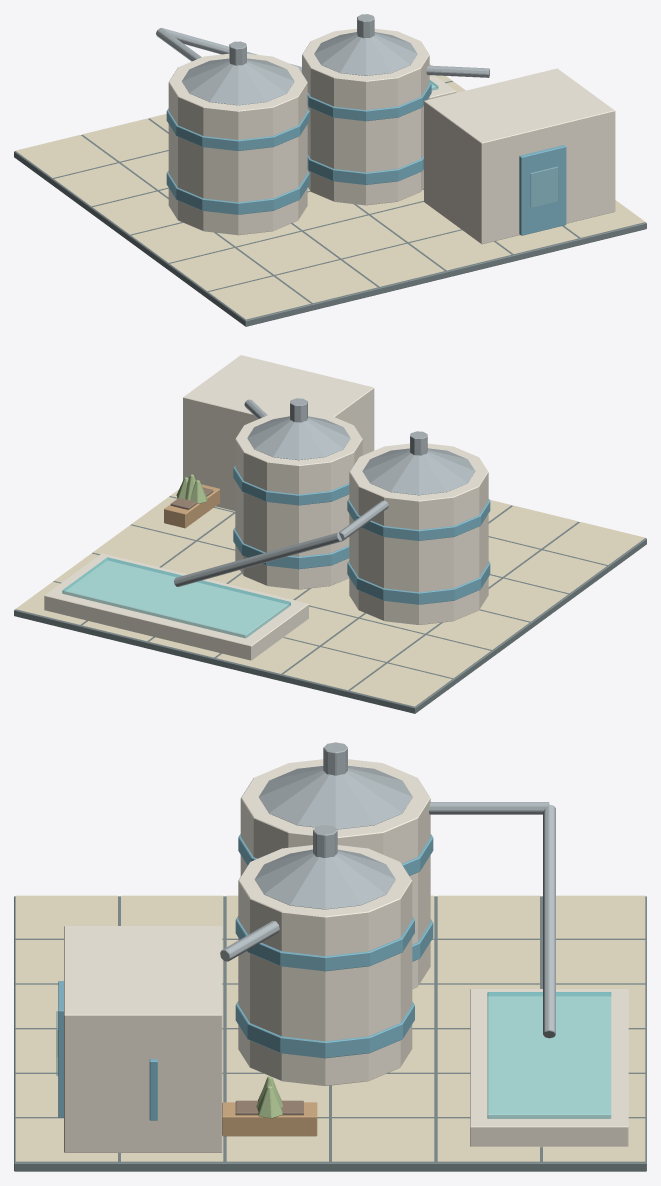
File: b04-aquaworks.glb
3 renders of one model, top to bottom at view 1: azimuth 30°, elevation 25°; view 2: azimuth 150°, elevation 25°; view 3: azimuth 270°, elevation 25°, orthographic. The views are drawn at different scales.
Parts seen in each view (by area): view 1: MM_STR_B04_AQUAWORKS_A_LOD0; view 2: MM_STR_B04_AQUAWORKS_A_LOD0; view 3: MM_STR_B04_AQUAWORKS_A_LOD0.
Part boxes in pixels (x1,y1,x2,y2): MM_STR_B04_AQUAWORKS_A_LOD0: (14,14,646,326); MM_STR_B04_AQUAWORKS_A_LOD0: (14,355,646,713); MM_STR_B04_AQUAWORKS_A_LOD0: (14,742,646,1171).
Bounding box in the file's own units: 12 × 4.83 × 12.
